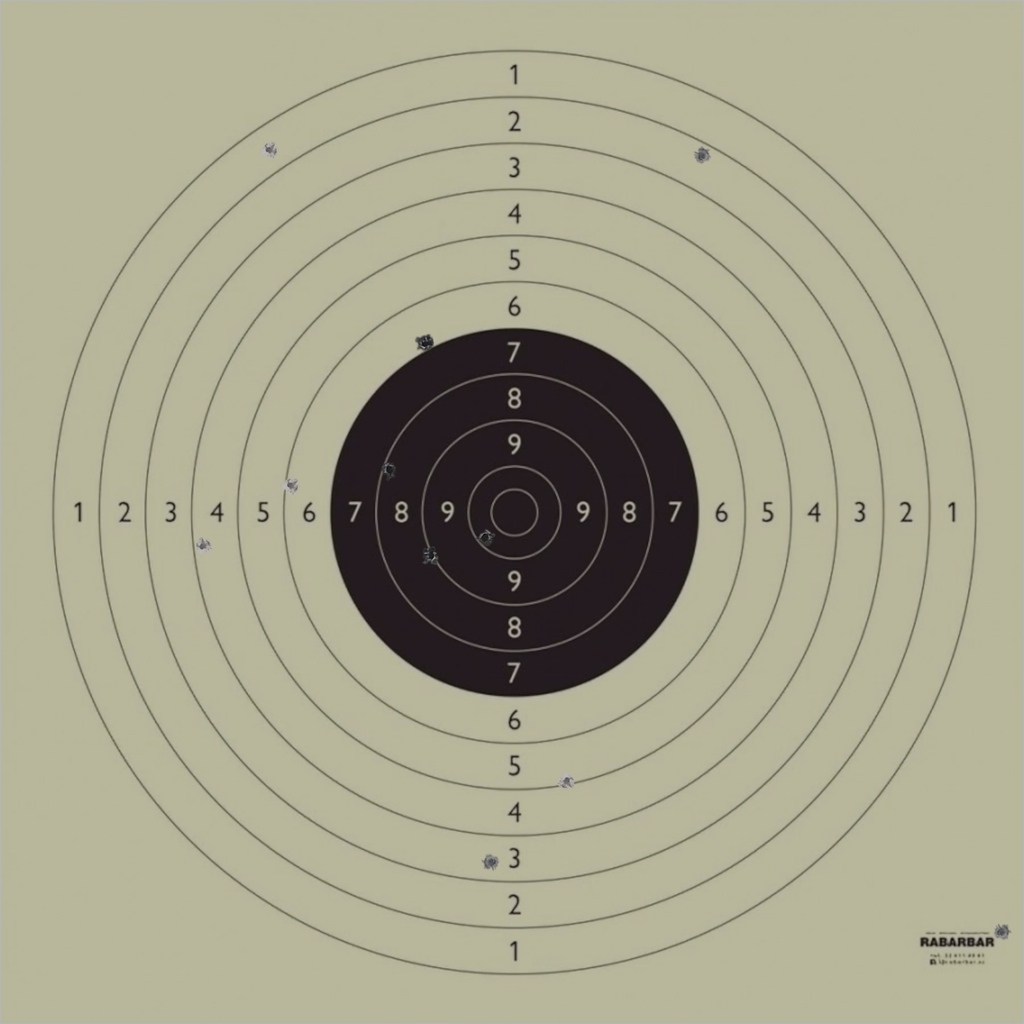0 punktow: (992, 923, 1011, 941)
1 punkt: (260, 141, 279, 159)
10 punktow: (476, 528, 495, 547)
2 punkty: (693, 147, 711, 165)
3 punkty: (482, 853, 501, 871)
4 punkty: (194, 537, 212, 555)
5 punktow: (558, 772, 576, 790)
6 punktow: (282, 476, 300, 495)
7 punktow: (416, 335, 434, 353)
8 punktow: (380, 461, 398, 479)
9 punktow: (422, 546, 440, 565)
